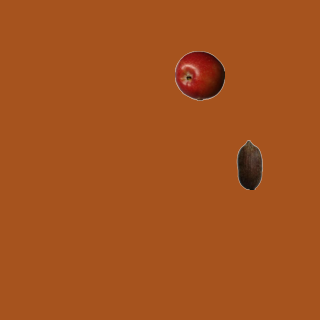Apple Braeburn: (174, 50, 224, 100)
Nut Pecan: (224, 139, 274, 189)
